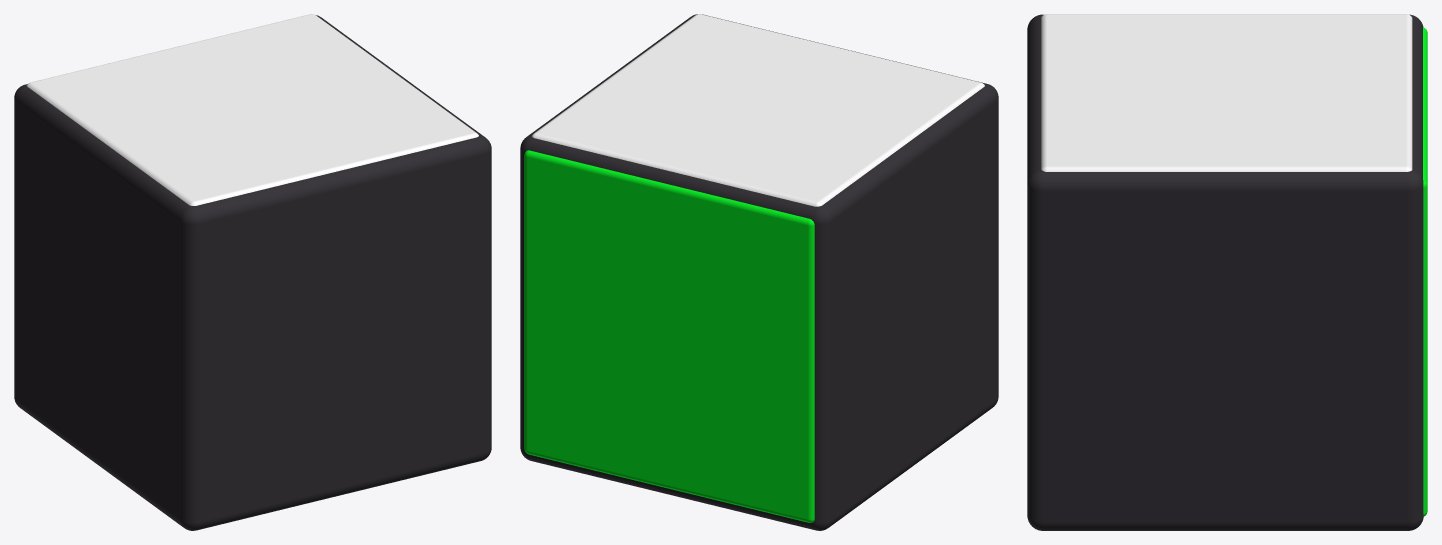
The model's file is wgEdge.obj.
3 renders of one model, left to right at view 1: azimuth 30°, elevation 25°; view 2: azimuth 150°, elevation 25°; view 3: azimuth 270°, elevation 25°, orthographic. The views are drawn at different scales.
Parts seen in each view (by area): view 1: 000_Base, 001_white; view 2: 002_green, 000_Base, 001_white; view 3: 000_Base, 001_white, 002_green.
Part boxes in pixels (x1,y1,x2,y2): 000_Base: (14,15,491,530); 001_white: (26,14,478,205); 002_green: (524,150,814,522); 000_Base: (520,14,998,530); 001_white: (532,14,984,206); 000_Base: (1027,14,1423,530); 001_white: (1041,14,1412,171); 002_green: (1423,27,1427,516).
Bounding box in the file's own units: 100 × 101 × 101.
